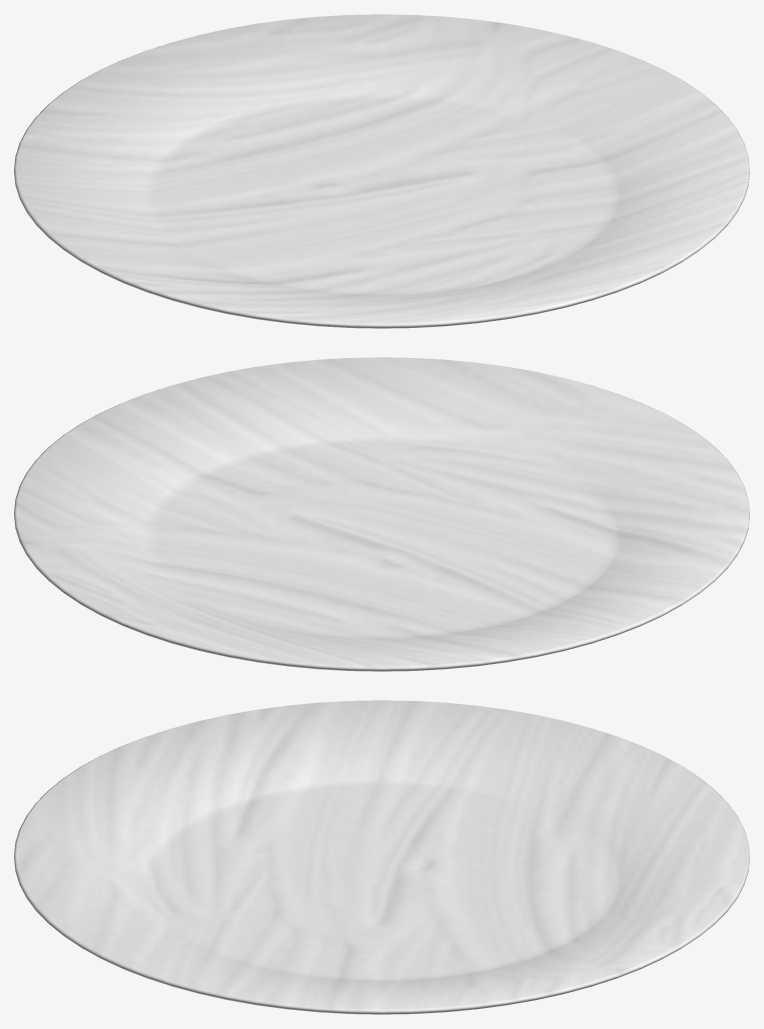
Rendered from platos.obj.
3 renders of one model, top to bottom at view 1: azimuth 30°, elevation 25°; view 2: azimuth 150°, elevation 25°; view 3: azimuth 270°, elevation 25°, orthographic.
Parts seen in each view (by area): view 1: Lathe_1; view 2: Lathe_1; view 3: Lathe_1.
Part boxes in pixels (left/top/right/bottom): Lathe_1: left=14, top=14, right=749, bottom=328; Lathe_1: left=14, top=357, right=749, bottom=671; Lathe_1: left=14, top=700, right=749, bottom=1014.
Size of the model in its own units: 7.78 by 0.4601 by 7.78.
Materials: 1 (1 with a texture image).
